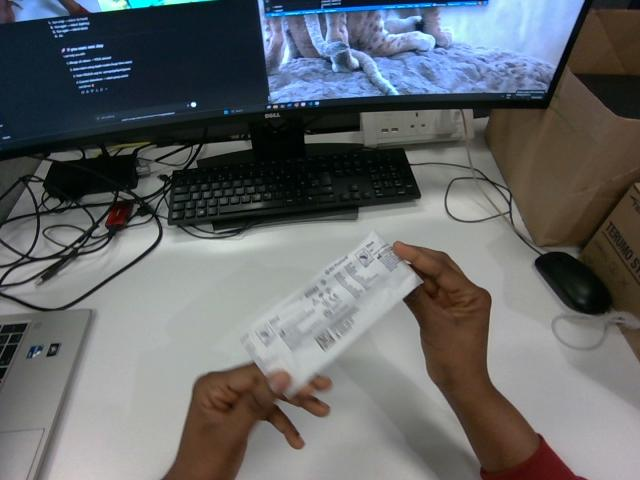syringe: (241, 232, 421, 395)
